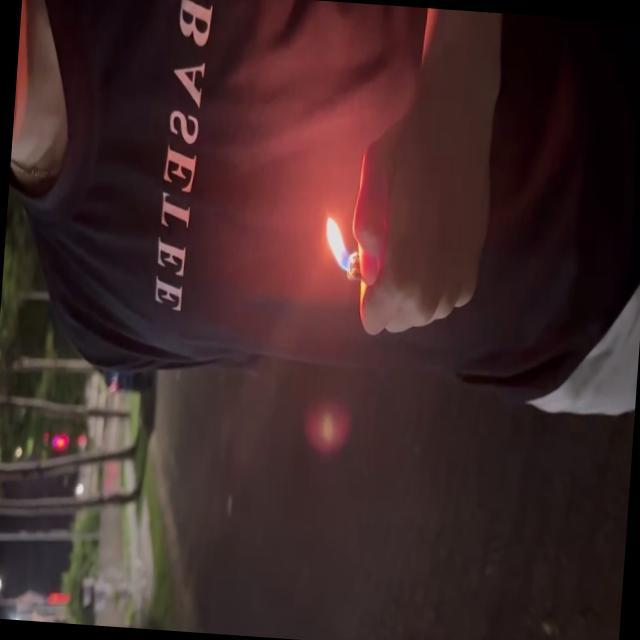Fire: (322, 213, 358, 276)
